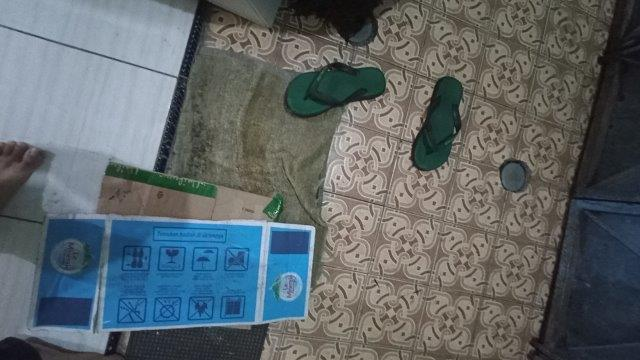kardus: (30, 165, 312, 332)
